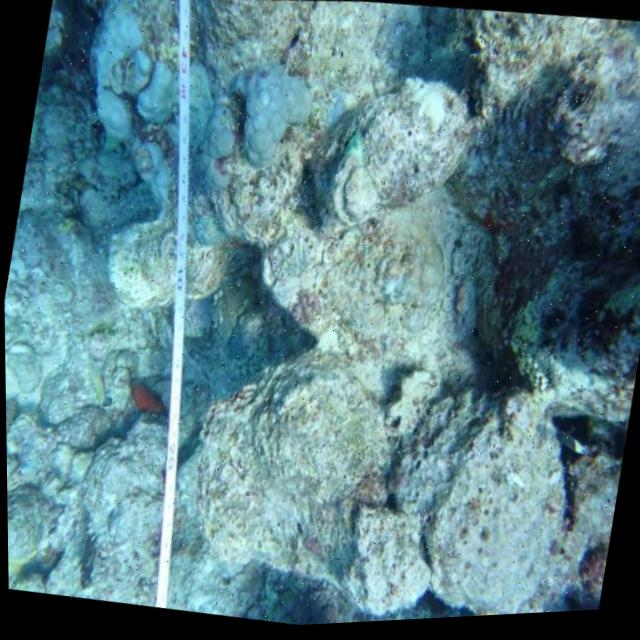Bleached Coral: (39, 0, 239, 217), (202, 41, 323, 177)
